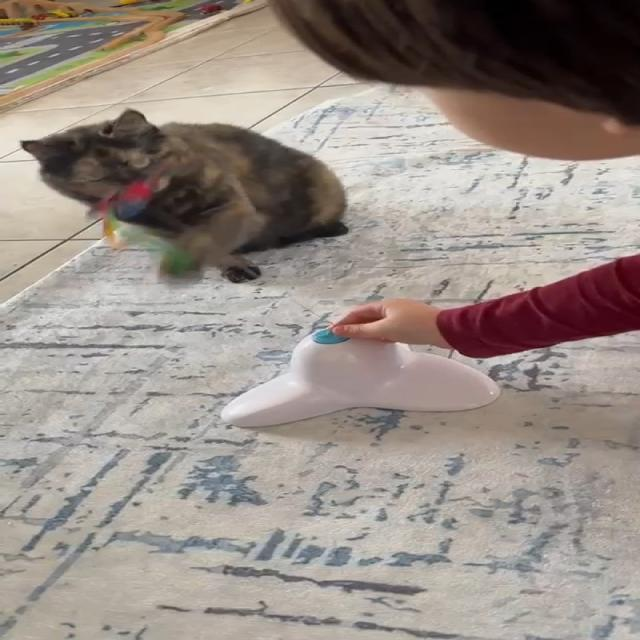authorized: (19, 107, 349, 283)
